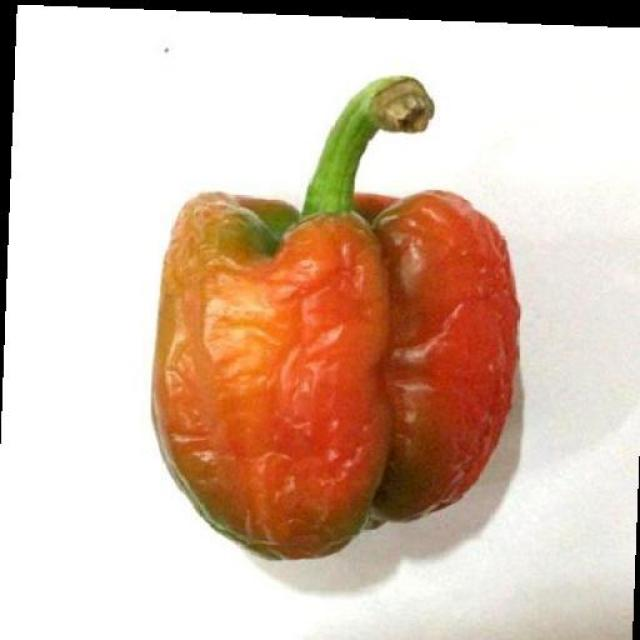Stale_Capsicum: (135, 100, 549, 563)
